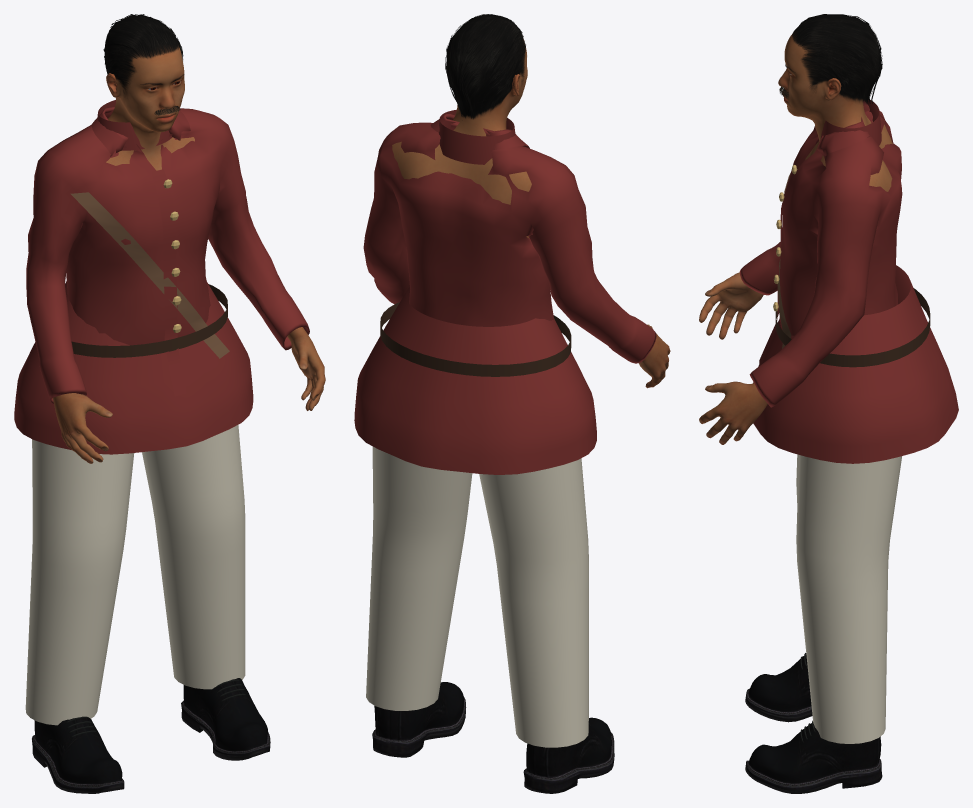
File: arjun_brother_preview.glb
The picture shows the model from 3 angles, left to right: view 1: azimuth 30°, elevation 25°; view 2: azimuth 150°, elevation 25°; view 3: azimuth 270°, elevation 25°; orthographic projection.
Visible parts, largest first — view 1: Dev_fitted_uniform_upper_preview, right trouser_preview, left trouser_preview, Coat lower skirts_preview, Dev_fitted_boots_preview, Arjun_brother_independent_MakeHuman_body_preview, Brother_short_hair_preview, Crossbody leather webbing_preview, Coat front placket_preview, Coat waist seam_preview, Uniform standing collar_preview; view 2: Dev_fitted_uniform_upper_preview, Coat lower skirts_preview, right trouser_preview, left trouser_preview, Dev_fitted_boots_preview, Brother_short_hair_preview, Arjun_brother_independent_MakeHuman_body_preview, Coat waist seam_preview, Uniform standing collar_preview; view 3: Dev_fitted_uniform_upper_preview, left trouser_preview, Coat lower skirts_preview, Arjun_brother_independent_MakeHuman_body_preview, Dev_fitted_boots_preview, Brother_short_hair_preview, Coat waist seam_preview, Uniform standing collar_preview.
Part boxes in pixels (x1,y1,x2,y2): Dev_fitted_uniform_upper_preview: (26, 107, 309, 403); right trouser_preview: (25, 439, 134, 725); left trouser_preview: (142, 425, 245, 689); Coat lower skirts_preview: (14, 281, 253, 454); Dev_fitted_boots_preview: (32, 678, 270, 793); Arjun_brother_independent_MakeHuman_body_preview: (52, 46, 325, 463); Brother_short_hair_preview: (103, 14, 183, 96); Crossbody leather webbing_preview: (70, 192, 229, 358); Coat front placket_preview: (151, 169, 186, 396); Coat waist seam_preview: (71, 284, 227, 357); Uniform standing collar_preview: (97, 100, 172, 150); Dev_fitted_uniform_upper_preview: (363, 114, 656, 363); Coat lower skirts_preview: (354, 287, 596, 474); right trouser_preview: (479, 458, 588, 747); left trouser_preview: (366, 446, 472, 710); Dev_fitted_boots_preview: (372, 682, 614, 793); Brother_short_hair_preview: (445, 14, 525, 119); Arjun_brother_independent_MakeHuman_body_preview: (392, 39, 670, 388); Coat waist seam_preview: (380, 302, 571, 376); Uniform standing collar_preview: (438, 109, 515, 164); Dev_fitted_uniform_upper_preview: (739, 101, 902, 407); left trouser_preview: (796, 455, 901, 743); Coat lower skirts_preview: (753, 265, 958, 463); Arjun_brother_independent_MakeHuman_body_preview: (699, 34, 892, 444); Dev_fitted_boots_preview: (745, 653, 882, 793); Brother_short_hair_preview: (792, 14, 882, 104); Coat waist seam_preview: (775, 288, 930, 367); Uniform standing collar_preview: (820, 100, 881, 145).
Bounding box in the file's own units: 0.6411 × 1.73 × 0.5577.
12 materials, 6 textured.
